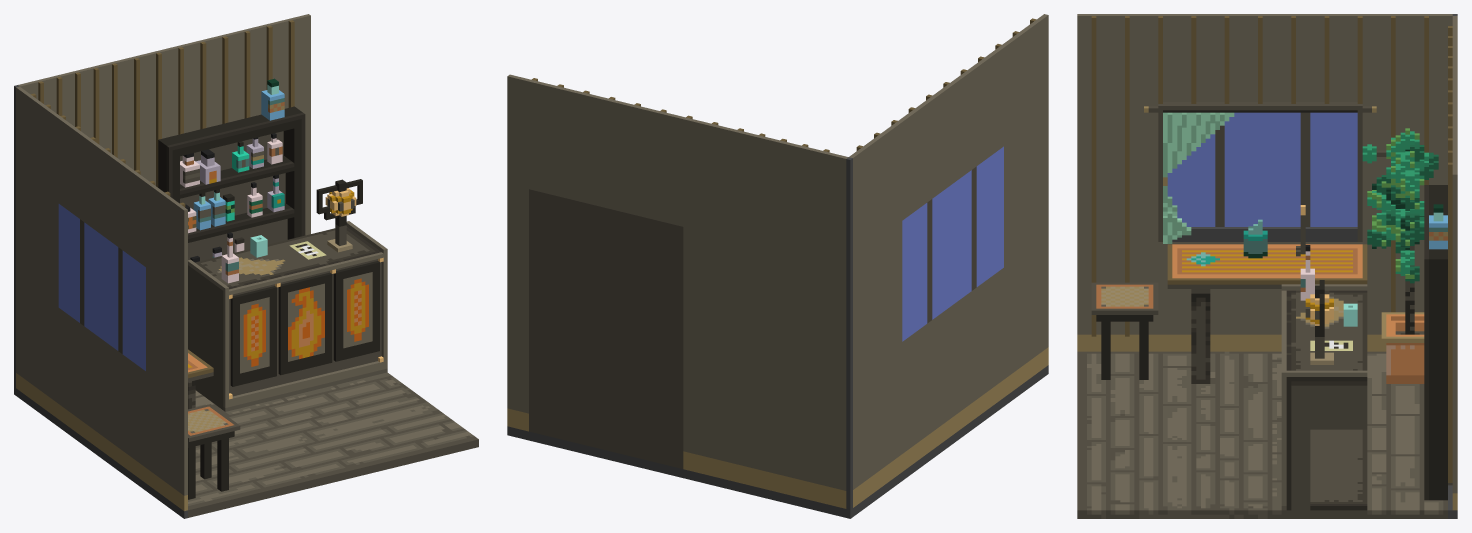
The model's file is bar.obj.
3 views of the same model, side by side, from view 1: azimuth 30°, elevation 25°; view 2: azimuth 150°, elevation 25°; view 3: azimuth 270°, elevation 25° (orthographic). The views are drawn at different scales.
Size of the model in its own units: 8 by 8 by 8.
1 material, 1 textured.
